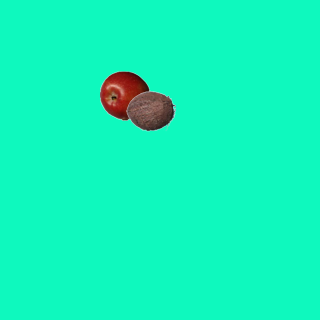Apple Braeburn: (99, 70, 149, 120)
Cocos: (125, 85, 175, 135)
